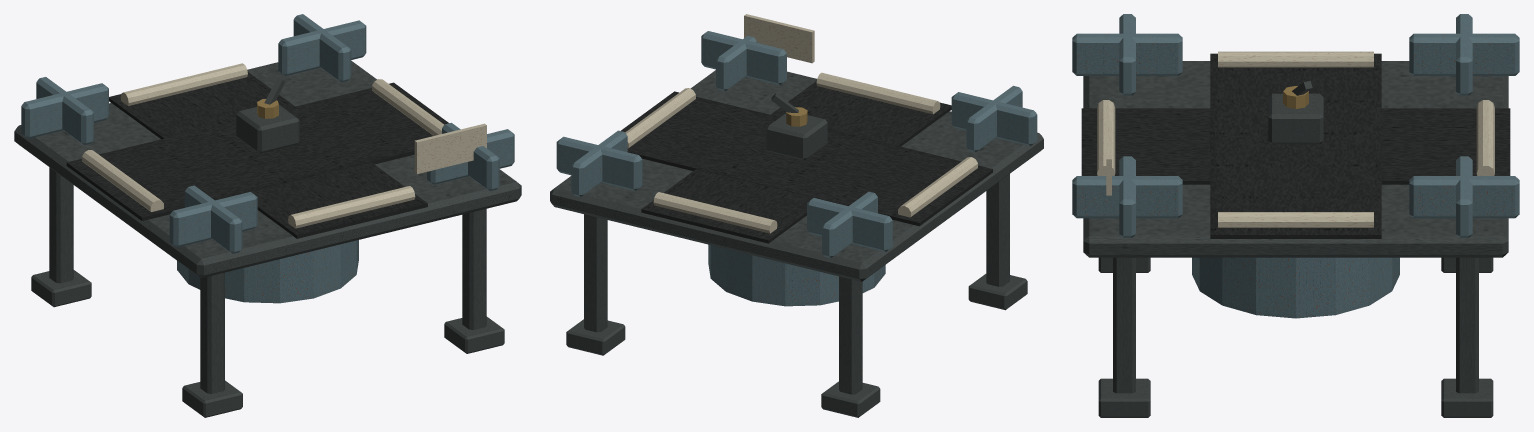
File: CompactMerger.fbx
3 renders of one model, left to right at view 1: azimuth 30°, elevation 25°; view 2: azimuth 150°, elevation 25°; view 3: azimuth 270°, elevation 25°, orthographic. The views are drawn at different scales.
Visible parts, largest first — view 1: CompactMerger; view 2: CompactMerger; view 3: CompactMerger.
Boxes of the visible parts, x1,y1,x2,y2 form: CompactMerger: (14, 14, 521, 417); CompactMerger: (550, 14, 1043, 417); CompactMerger: (1072, 14, 1519, 417).
Size of the model in its own units: 146 by 94.98 by 146.
Materials: 1 (1 with a texture image).
